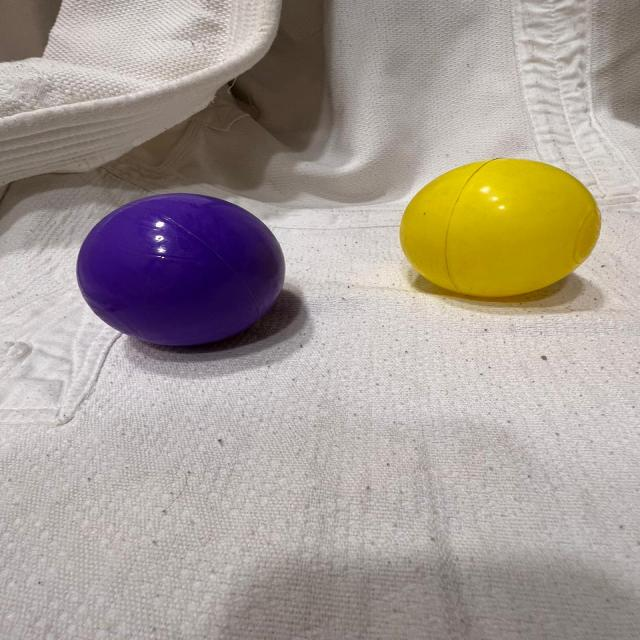ball: (72, 192, 288, 350), (396, 158, 609, 301)
